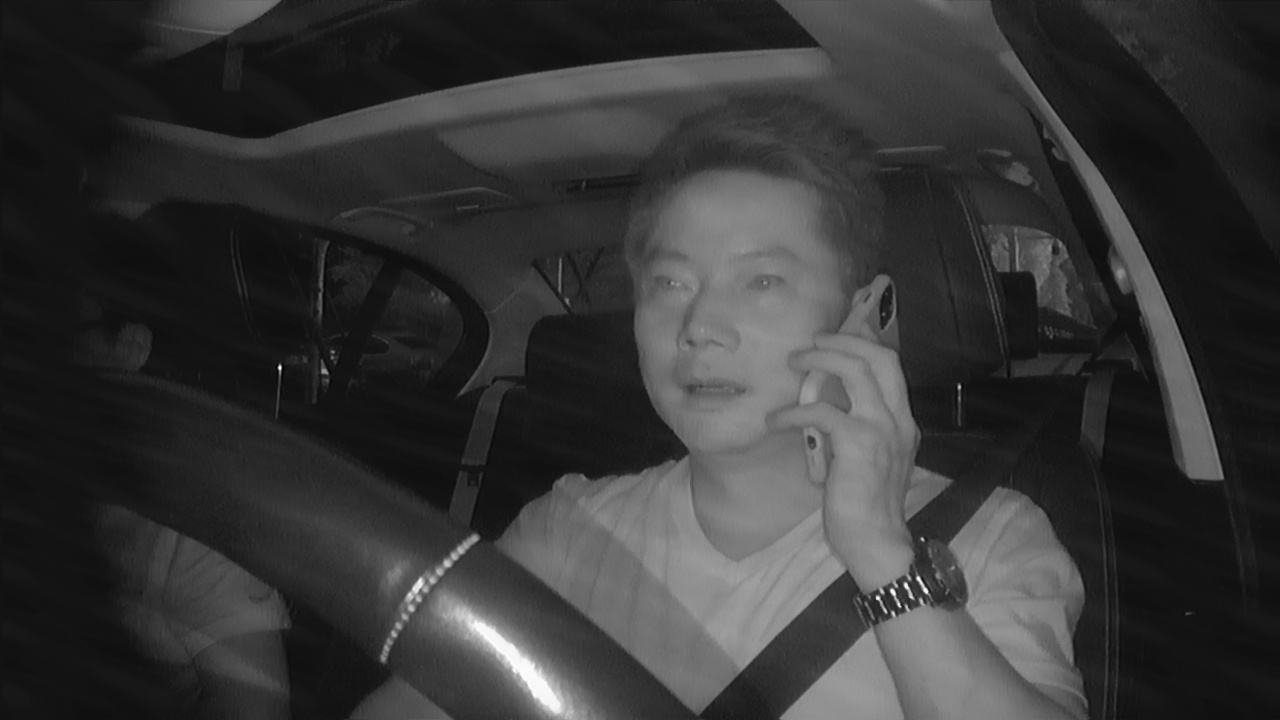hand: (767, 322, 923, 540)
